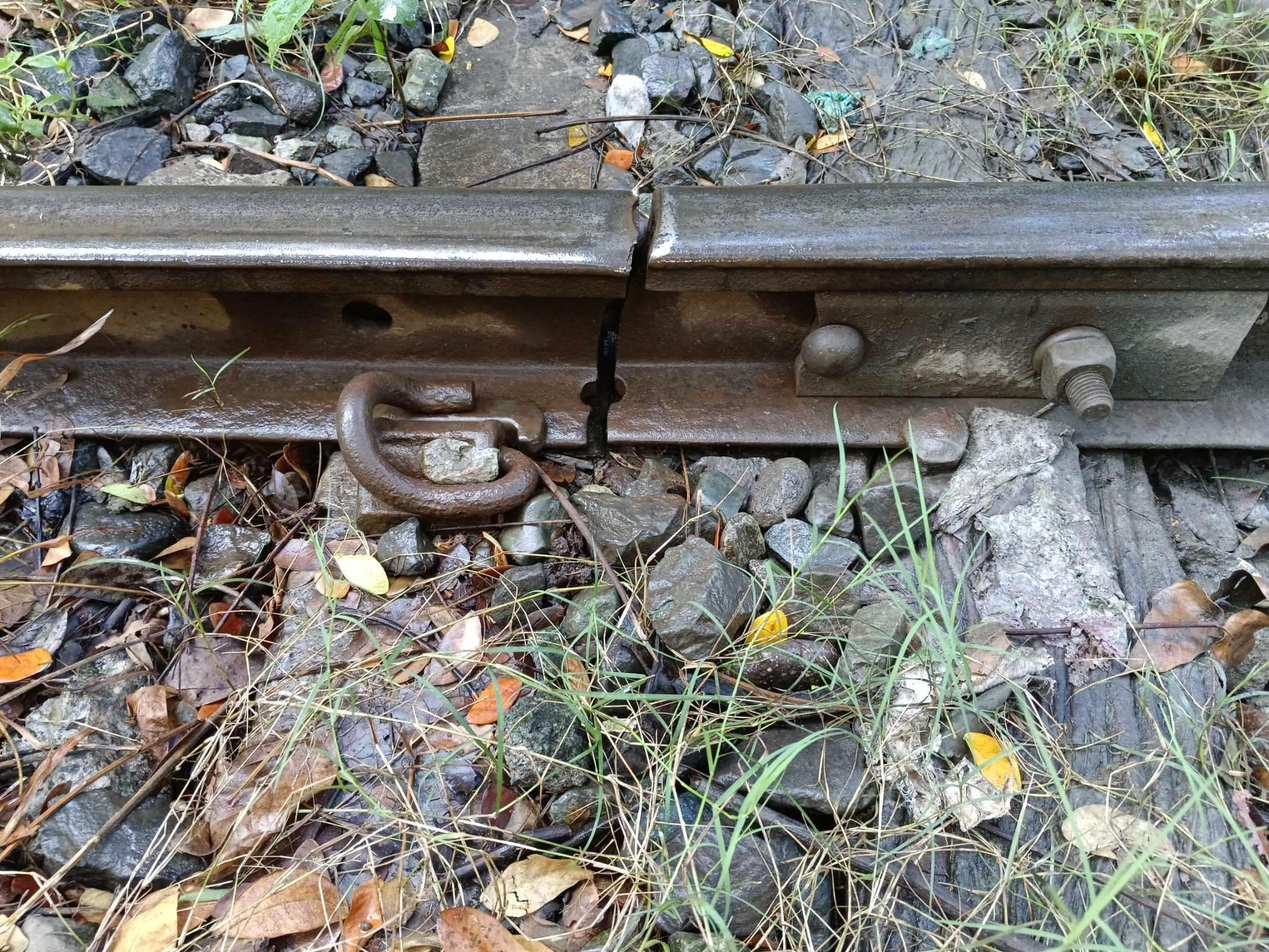railway-gap: (481, 178, 754, 462)
